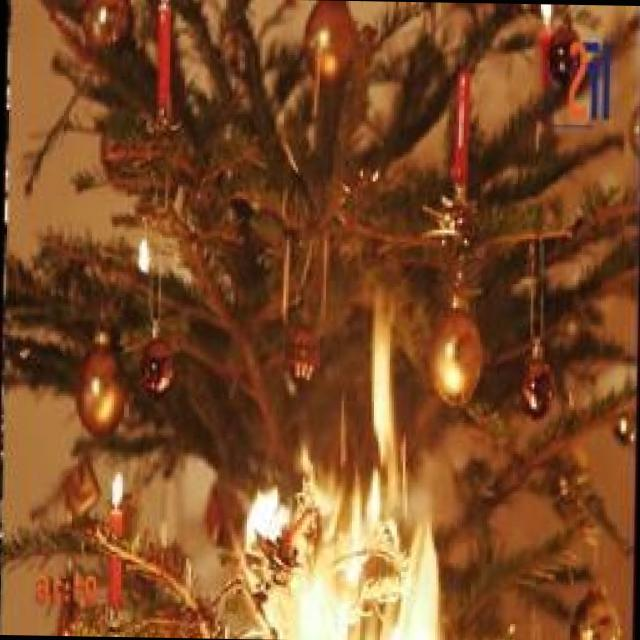fire: (250, 311, 456, 640)
